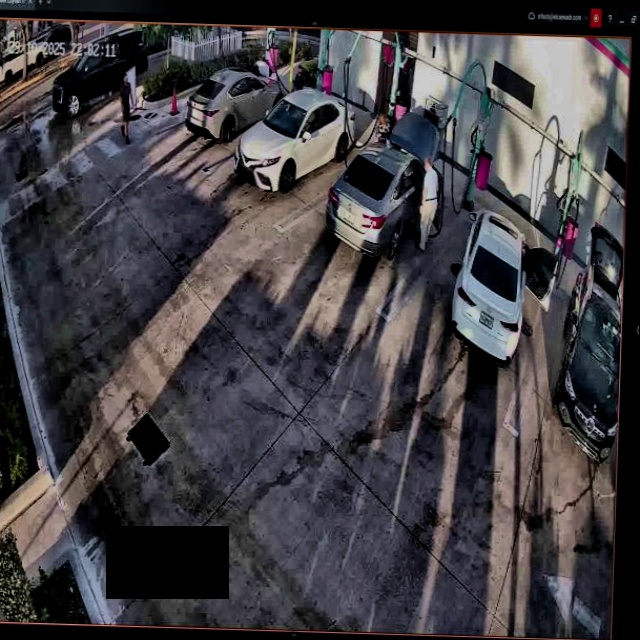Car: (326, 109, 445, 259), (448, 208, 558, 367), (236, 88, 357, 198), (185, 69, 286, 142)
